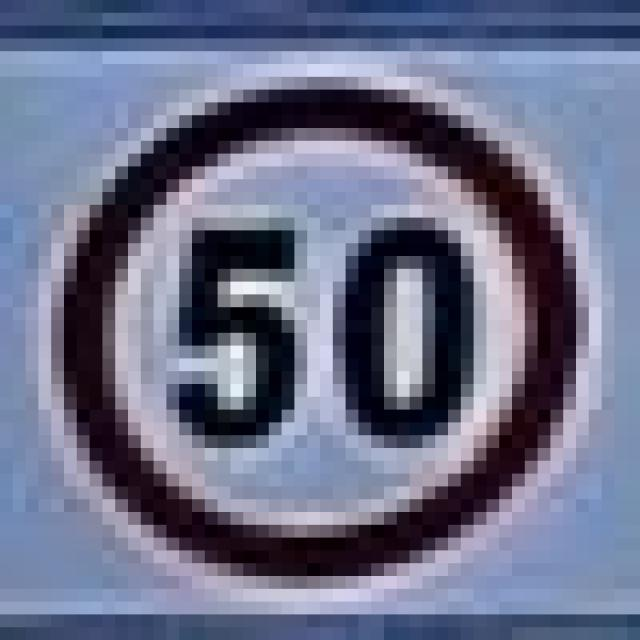speed_limit_30: (38, 64, 576, 576)
